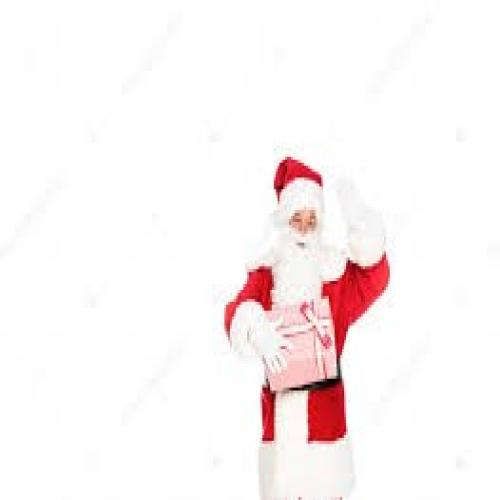Santa: (222, 154, 392, 497)
